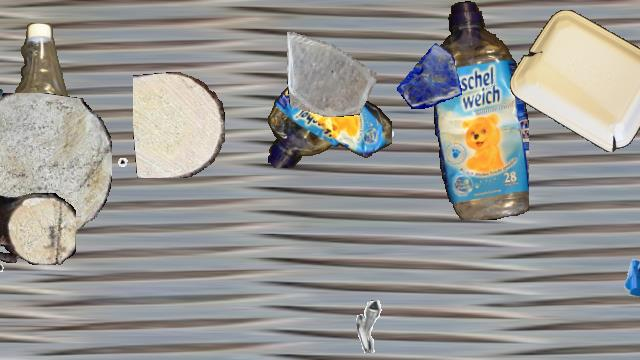glass: (287, 27, 377, 117), (396, 42, 462, 108)
metal: (457, 98, 517, 158), (356, 299, 410, 353), (606, 246, 640, 304), (358, 100, 398, 140), (114, 156, 154, 196), (0, 51, 18, 107), (0, 255, 12, 301)
plastic: (434, 1, 528, 219), (510, 10, 640, 152), (0, 23, 76, 221), (266, 77, 392, 167)
wood: (0, 93, 111, 245), (133, 72, 225, 178), (0, 193, 76, 265)
